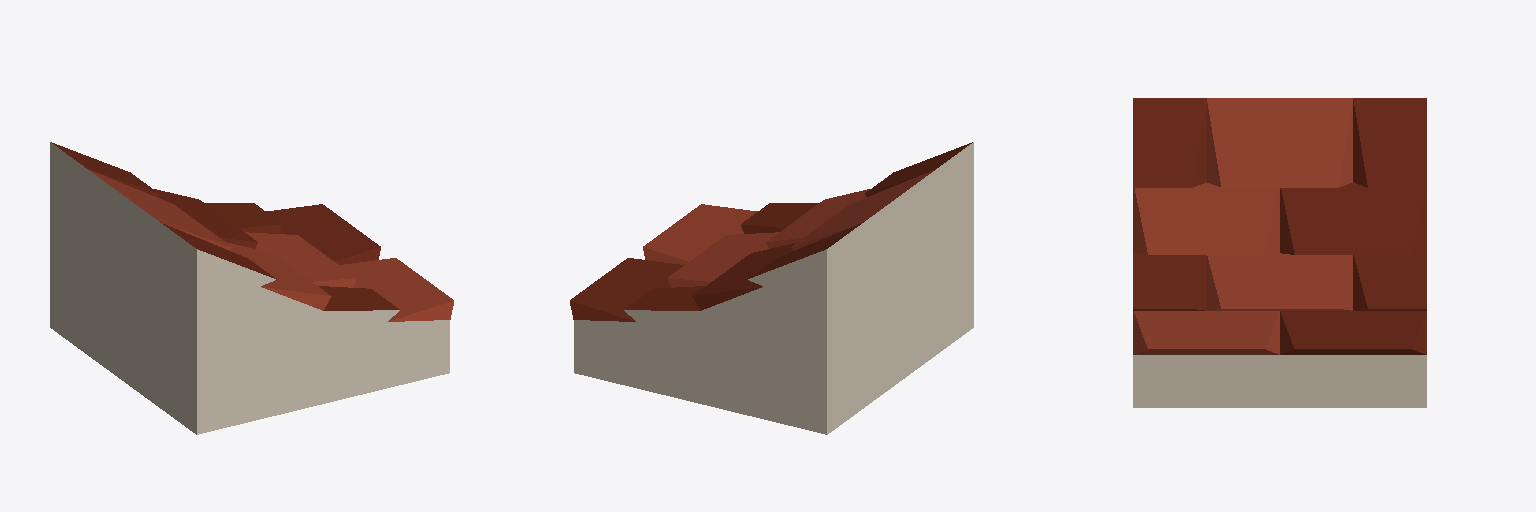
The model's file is Roof_Concave_Side.obj.
The picture shows the model from 3 angles: view 1: azimuth 30°, elevation 25°; view 2: azimuth 150°, elevation 25°; view 3: azimuth 270°, elevation 25°; orthographic projection.
Visible parts, largest first — view 1: object1; view 2: object1; view 3: object1.
Part boxes in pixels (bbox=[...]): object1: bbox=[50, 142, 453, 434]; object1: bbox=[570, 142, 973, 434]; object1: bbox=[1133, 98, 1426, 407].
Bounding box in the file's own units: 1.05 × 0.7 × 1.